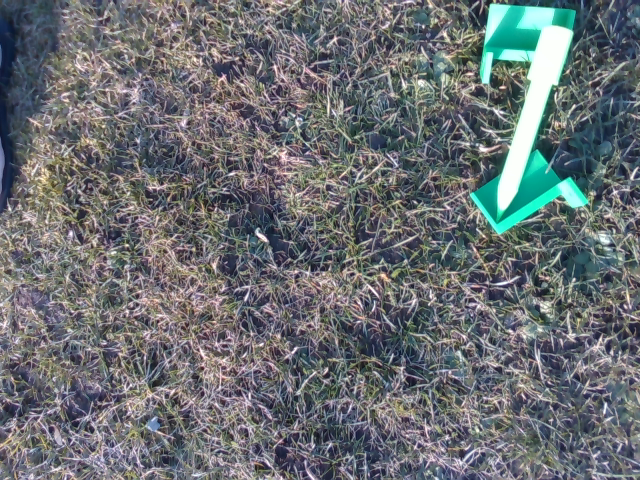Probe: (492, 21, 579, 229)
